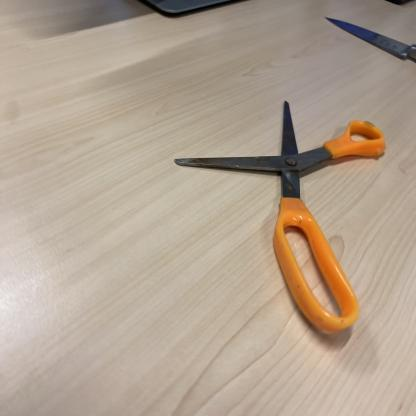Knife: (326, 14, 416, 69)
scissors: (174, 97, 388, 346)
